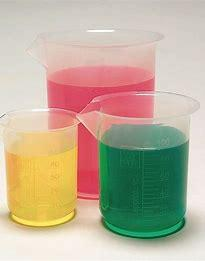Beaker: (80, 81, 200, 239), (2, 98, 76, 231)
